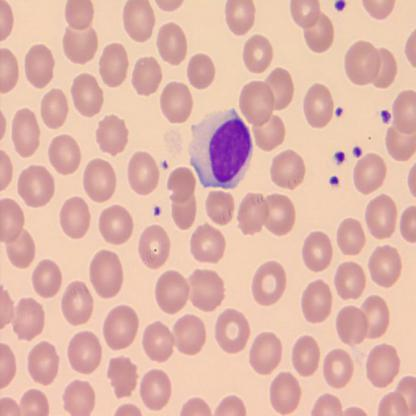Lymphocyte: (188, 107, 254, 190)
